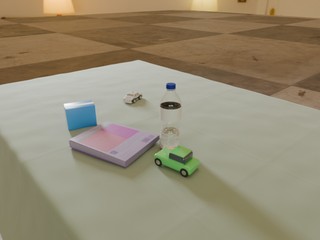book: (69, 121, 160, 167)
bottle: (159, 83, 181, 150)
box: (64, 100, 97, 130)
toy_car: (154, 146, 199, 177), (123, 91, 142, 103)
